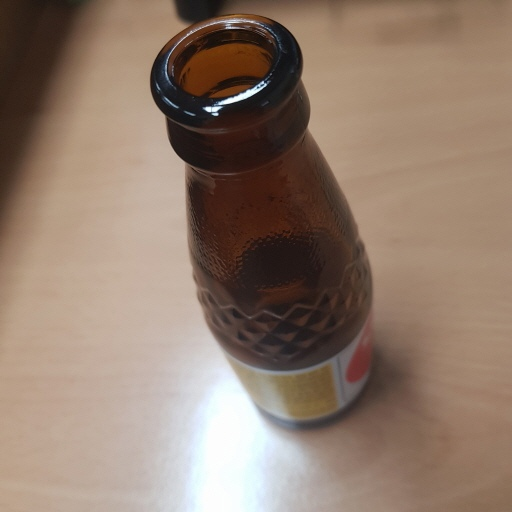Glass_3: (150, 15, 379, 431)
